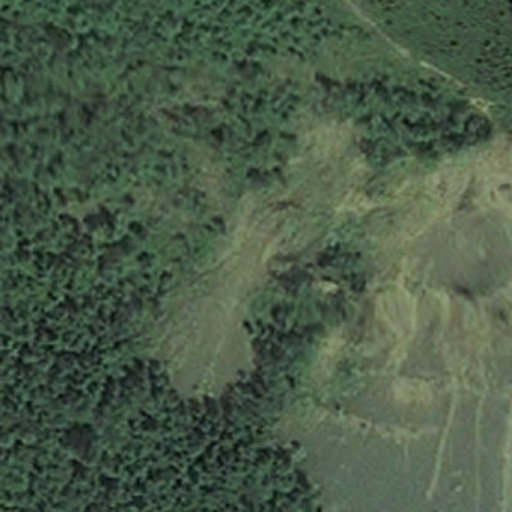landslide: (332, 119, 512, 331), (170, 211, 280, 389)
